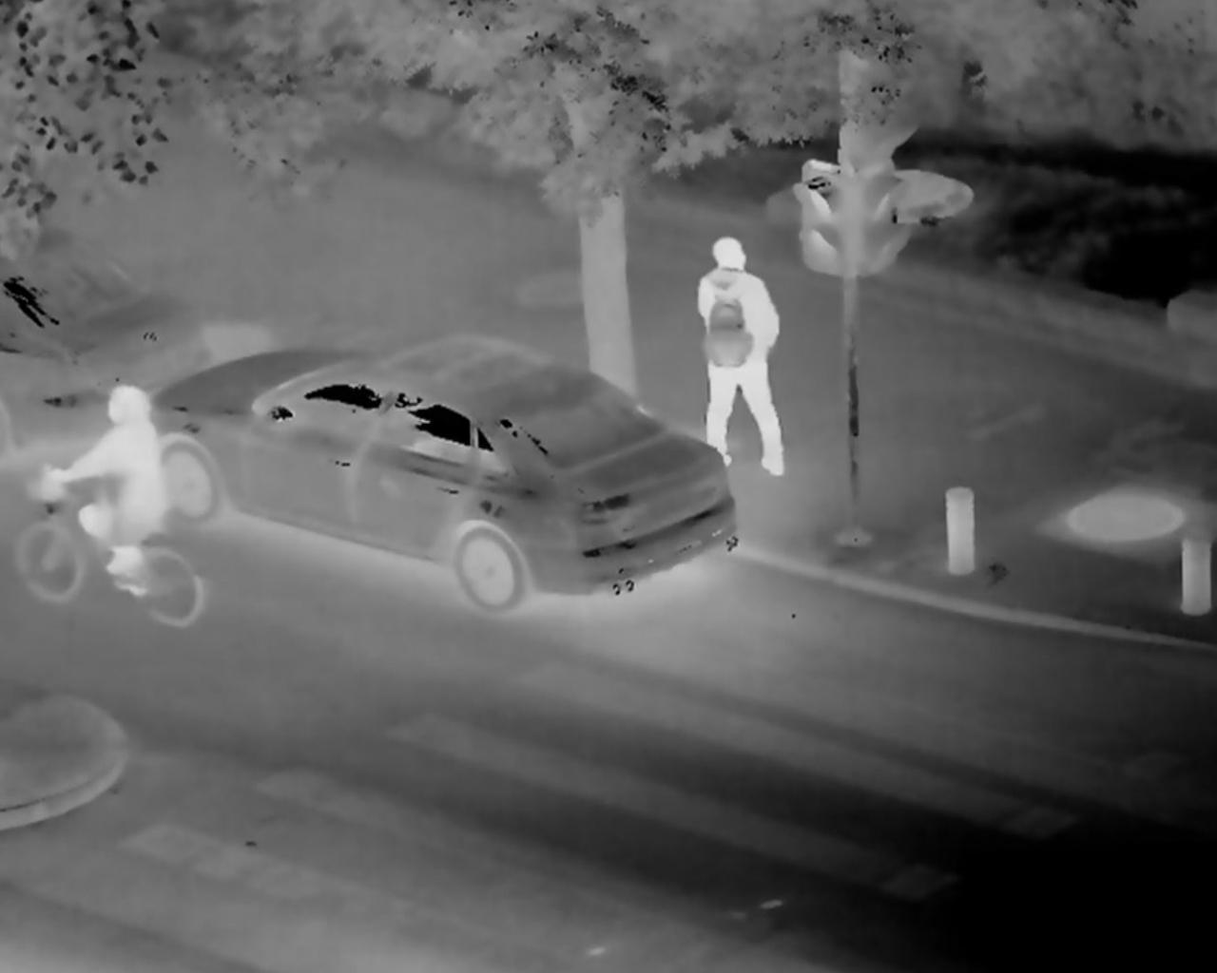person: (48, 384, 178, 593), (695, 237, 789, 477)
